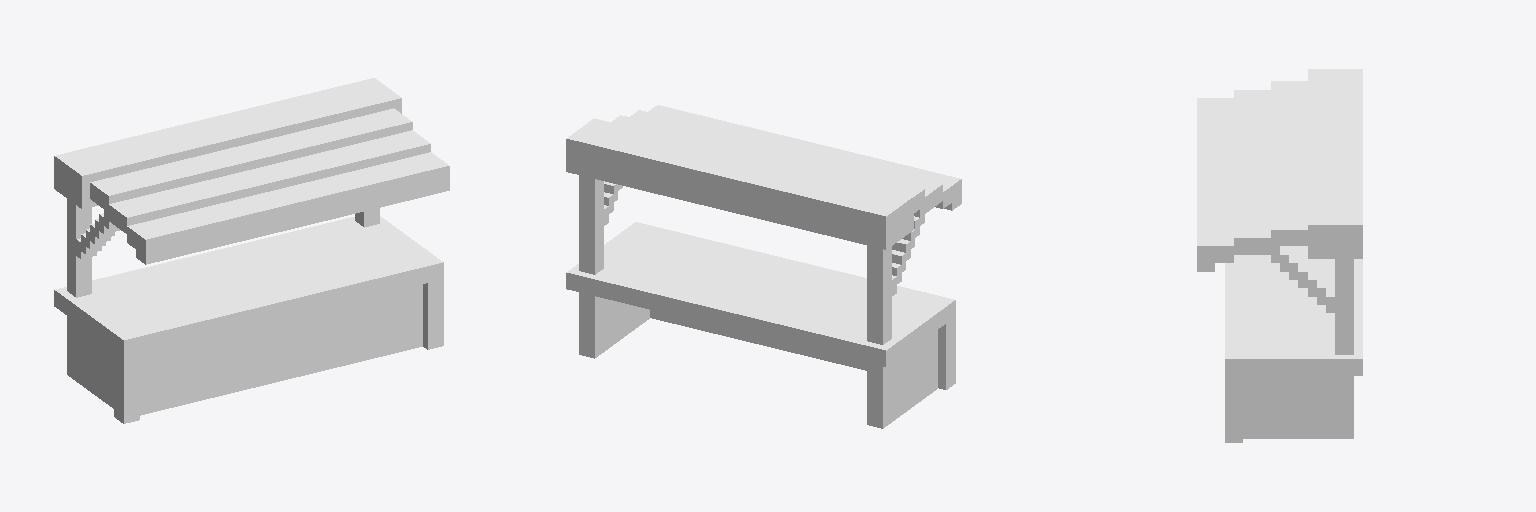
Rendered from market_stand_green.vox.obj.
3 renders of one model, left to right at view 1: azimuth 30°, elevation 25°; view 2: azimuth 150°, elevation 25°; view 3: azimuth 270°, elevation 25°, orthographic.
Visible parts, largest first — view 1: object 1; view 2: object 1; view 3: object 1.
Boxes of the visible parts, box(x1,y1,x2,y2) form: object 1: box(54, 78, 449, 423); object 1: box(566, 105, 961, 428); object 1: box(1197, 69, 1362, 442).
Bounding box in the file's own units: 4 × 2.6 × 1.8.